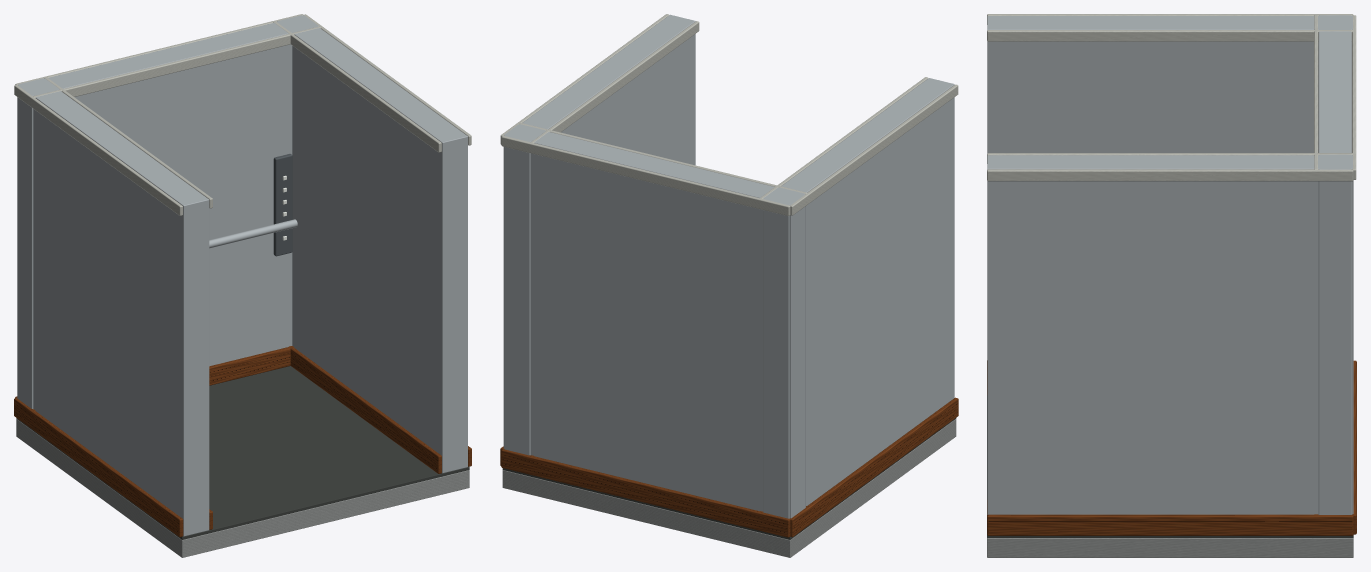
File: liminal-spaces-kit-elevator-car-22251ff7.glb
The picture shows the model from 3 angles, left to right: view 1: azimuth 30°, elevation 25°; view 2: azimuth 150°, elevation 25°; view 3: azimuth 270°, elevation 25°; orthographic projection. The views are drawn at different scales.
Parts seen in each view (by area): view 1: elevator-car; view 2: elevator-car; view 3: elevator-car.
Part boxes in pixels (bbox=[...]): elevator-car: bbox=[14, 14, 471, 557]; elevator-car: bbox=[500, 14, 958, 557]; elevator-car: bbox=[987, 14, 1356, 557].
Size of the model in its own units: 2.04 by 2.34 by 2.02.
7 materials, 3 textured.
